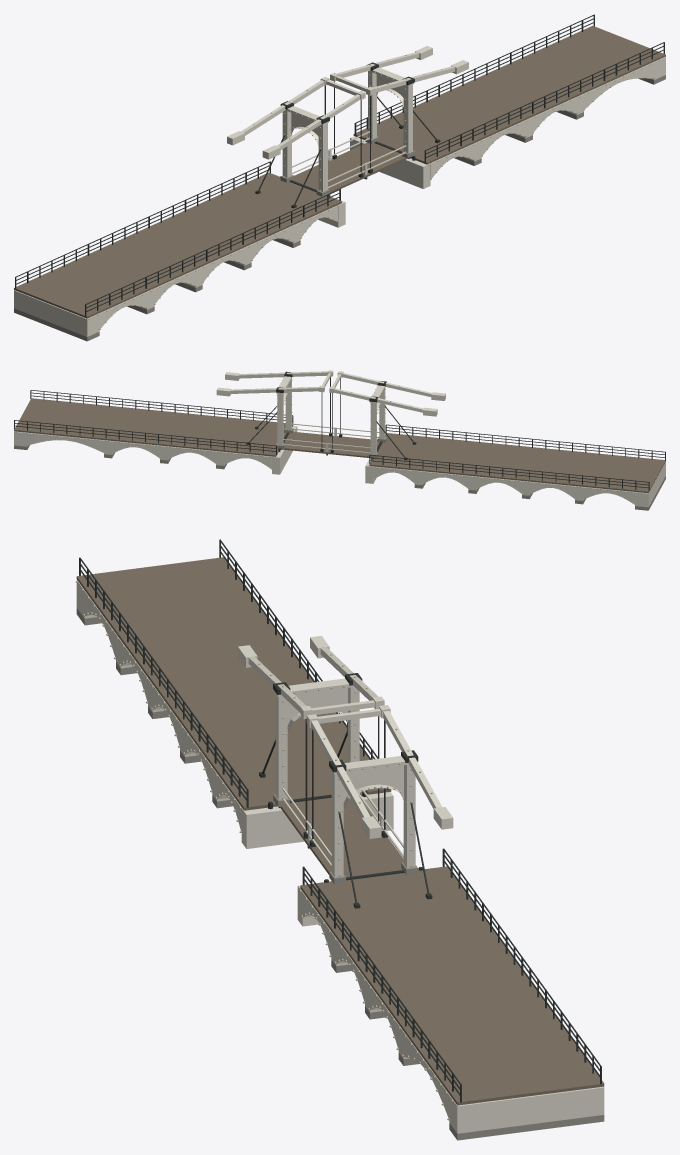
The model's file is magere-brug-far.glb.
3 renders of one model, top to bottom at view 1: azimuth 30°, elevation 25°; view 2: azimuth 150°, elevation 25°; view 3: azimuth 270°, elevation 25°, orthographic. The views are drawn at different scales.
Parts seen in each view (by area): view 1: magere-brug-0-deck, magere-brug-0-timber, magere-brug-0-iron, magere-brug-0-stone, magere-brug-0-lamp; view 2: magere-brug-0-deck, magere-brug-0-timber, magere-brug-0-iron, magere-brug-0-stone, magere-brug-0-lamp; view 3: magere-brug-0-deck, magere-brug-0-timber, magere-brug-0-iron, magere-brug-0-stone, magere-brug-0-lamp.
Boxes of the visible parts, x1,y1,x2,y2 form: magere-brug-0-deck: [14, 25, 665, 318]; magere-brug-0-timber: [14, 46, 665, 336]; magere-brug-0-iron: [15, 14, 664, 316]; magere-brug-0-stone: [14, 75, 665, 341]; magere-brug-0-lamp: [88, 55, 659, 329]; magere-brug-0-deck: [14, 398, 665, 493]; magere-brug-0-timber: [14, 370, 665, 507]; magere-brug-0-iron: [14, 371, 665, 490]; magere-brug-0-stone: [14, 428, 665, 510]; magere-brug-0-lamp: [21, 371, 647, 504]; magere-brug-0-deck: [76, 557, 604, 1105]; magere-brug-0-timber: [76, 580, 604, 1133]; magere-brug-0-iron: [79, 539, 601, 1102]; magere-brug-0-stone: [76, 608, 604, 1140]; magere-brug-0-lamp: [76, 581, 452, 1120].
Size of the model in its own units: 80.16 by 11.49 by 32.85.
